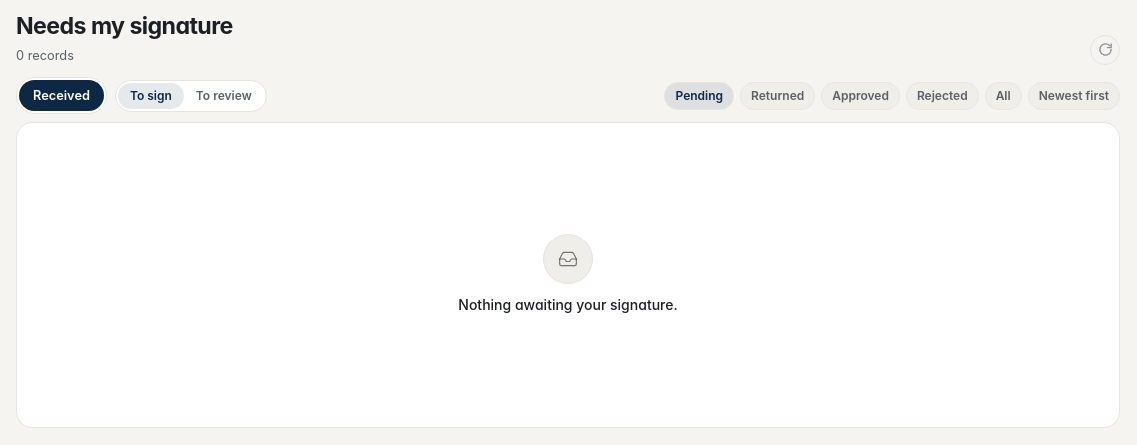
Scenario: ApprovalsPage sub-tabs and filters › the review sub-tab only offers pending/all statuses
Click the tab with test id "approvals-subtab-review" at (224, 96), box [184,83,264,109]
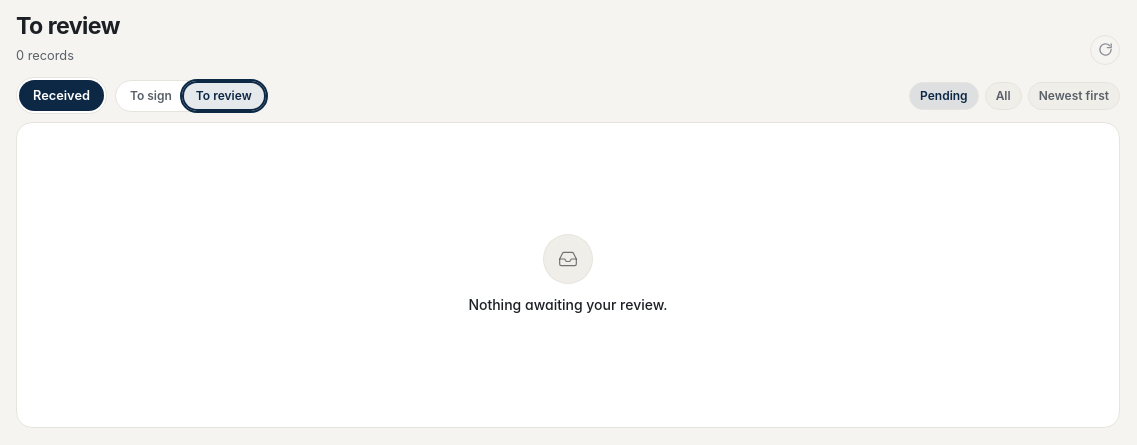
Expected: the button with test id "approvals-filter-pending" is shown, [909,82,979,110]
Expected: the button with test id "approvals-filter-approved" is gone
